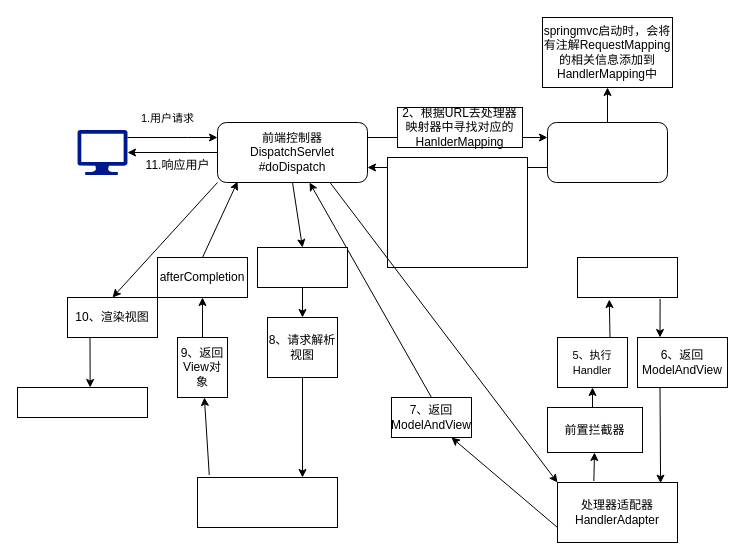
The diagram is 745 pixels wide and 560 high, and some of its shapes have lost their labels. Each missing label, with the centre of its shape:
3.返回处理器执行链 HandlerExecutionChain {HandlerInterceptor1， HandlerInterceptor2... }: [457,212]
HandlerMapping 处理器映射器: [607,152]
Handler处理器: [627,277]
后置拦截器post: [302,267]
视图解析器 ViewResolver: [267,502]
视图：JSP、Freemaker，thymeleaf: [82,402]
